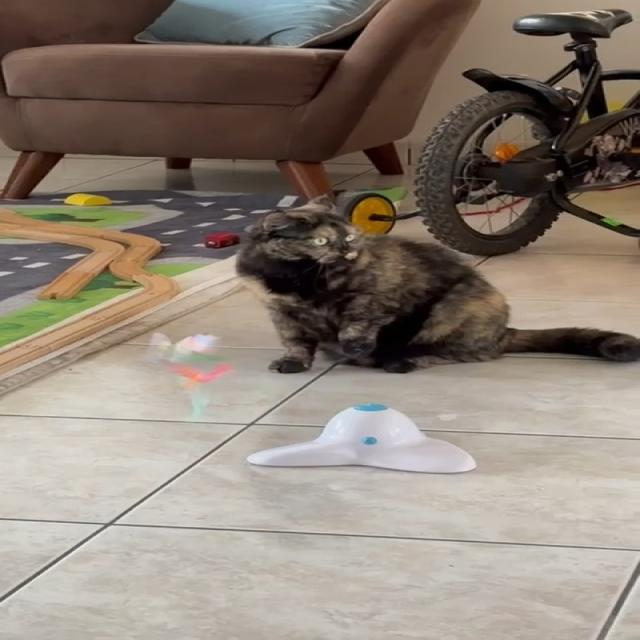authorized: (233, 194, 639, 374)
